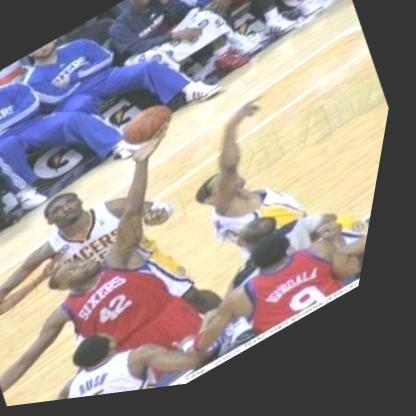basketball: (114, 94, 193, 165)
